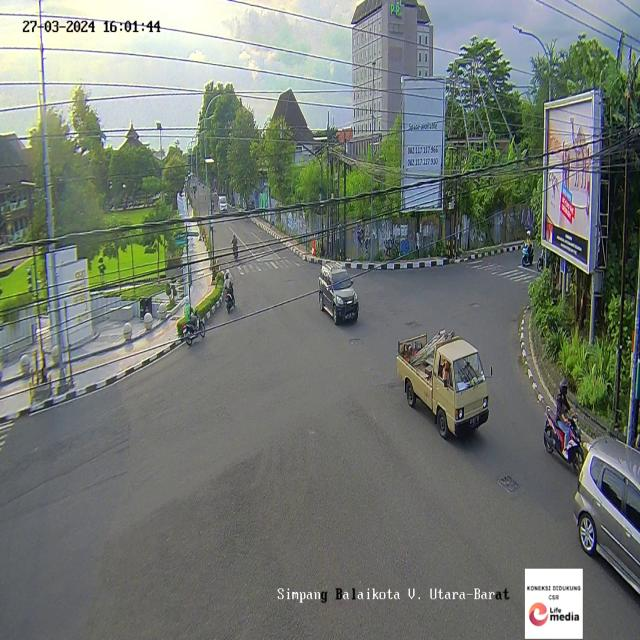car: (573, 438, 640, 622), (320, 272, 361, 327)
motorcycle: (543, 379, 584, 464), (182, 298, 205, 349), (224, 269, 235, 313), (521, 229, 532, 273), (230, 232, 239, 263)
truck: (394, 328, 492, 442)
